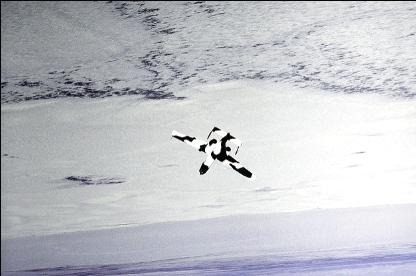A10: (169, 125, 256, 179)
